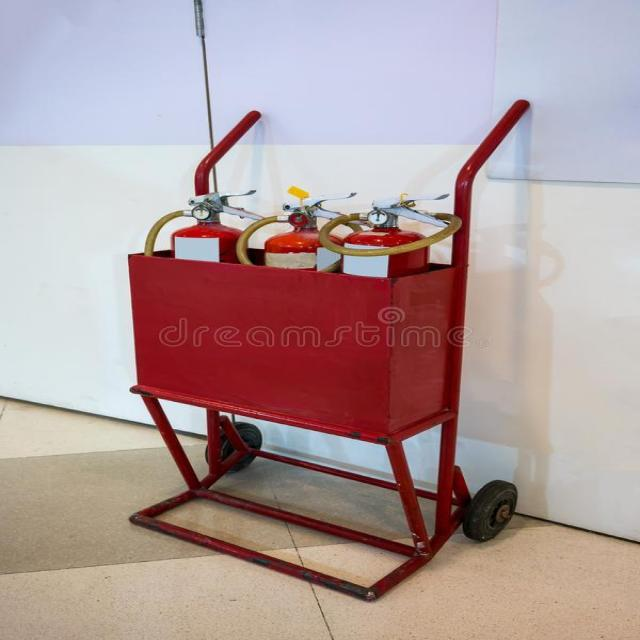fire_extinguisher: (311, 188, 471, 422), (231, 188, 364, 404), (140, 186, 272, 393)
